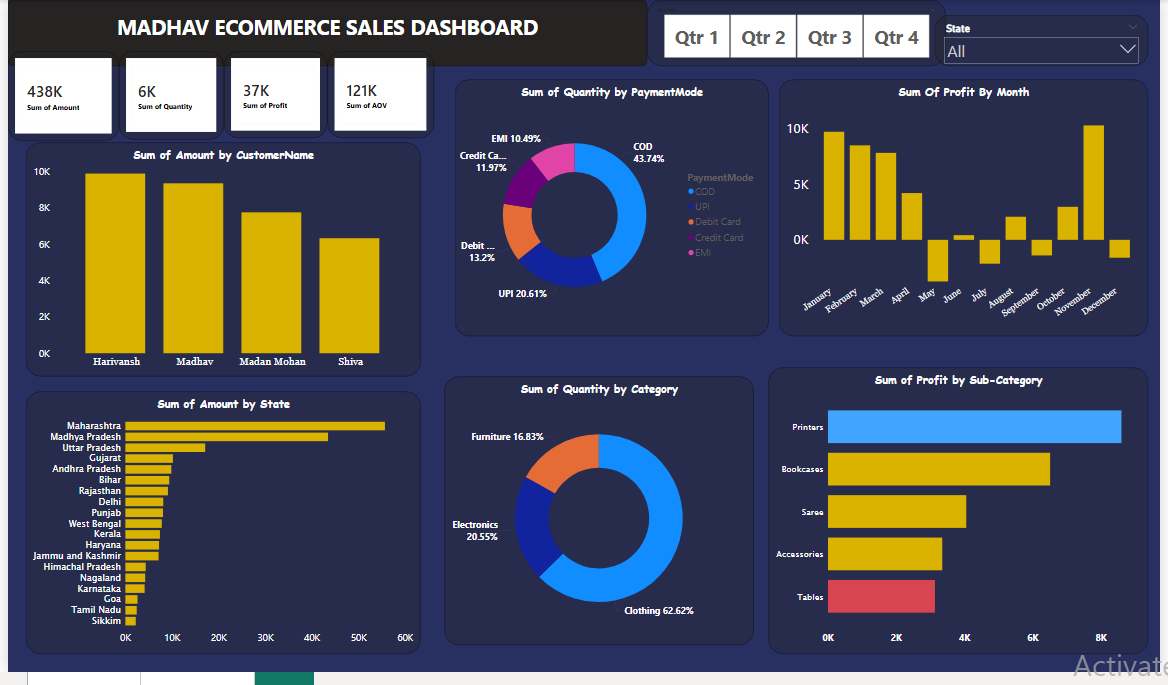

The page's visual inventory and layout, read from the dashboard file:
{"tool":"powerbi","page":{"name":"Page 1","canvas":[2400,1400],"ordinal":0},"visuals":[{"type":"textbox","box":[0,0,1331.2,137.5],"z":0},{"type":"columnChart","title":"Sum Of Profit By Month","fields":{"Y":["Sum(Details.Profit)"],"Category":["Orders.Order Date.Variation.Date Hierarchy.Month"]},"box":[1606.2,165.6,768.8,534.4],"z":1000},{"type":"barChart","fields":{"Category":["Details.Sub-Category"],"Y":["Sum(Details.Profit)"]},"box":[1584.4,765.6,790.6,596.9],"z":2000},{"type":"donutChart","fields":{"Category":["Details.Category"],"Y":["Sum(Details.Quantity)"]},"box":[909.4,784.4,643.8,559.4],"z":3000},{"type":"donutChart","fields":{"Y":["Sum(Details.Quantity)"],"Category":["Details.PaymentMode"]},"box":[931.2,165.6,653.1,534.4],"z":4000},{"type":"cardVisual","fields":{"Data":["Sum(Details.Amount)"]},"box":[0,106.2,231.2,187.5],"z":5000},{"type":"cardVisual","fields":{"Data":["Sum(Details.Quantity)"]},"box":[231.2,106.2,218.8,184.4],"z":6000},{"type":"cardVisual","fields":{"Data":["Sum(Details.Profit)"]},"box":[450,106.2,215.6,181.2],"z":7000},{"type":"cardVisual","fields":{"Data":["Sum(Details.AOV)"]},"box":[665.6,106.2,221.9,181.2],"z":8000},{"type":"barChart","fields":{"Category":["Orders.State"],"Y":["Sum(Details.Amount)"]},"box":[37.5,815.6,821.9,546.9],"z":9000},{"type":"columnChart","fields":{"Category":["Orders.CustomerName"],"Y":["Sum(Details.Amount)"]},"box":[37.5,296.9,821.9,487.5],"z":10000},{"type":"slicer","fields":{"Values":["Orders.Order Date.Variation.Date Hierarchy.Quarter"]},"box":[1331.2,0,621.9,137.5],"z":11000},{"type":"slicer","fields":{"Values":["Orders.State"]},"box":[1931.2,31.2,443.8,106.2],"z":12000}]}

Visuals, with their boxes in screenshot pixels (x1, y1, x2, y2), scaled from the page's 2400x1400 canvas onto the 1168x685 screenshot:
textbox: box=[0, 0, 648, 67]
"Sum Of Profit By Month" columnChart: box=[782, 81, 1156, 342]
barChart - Details.Sub-Category x Sum(Details.Profit): box=[771, 375, 1156, 667]
donutChart - Details.Category x Sum(Details.Quantity): box=[443, 384, 756, 658]
donutChart - Sum(Details.Quantity) x Details.PaymentMode: box=[453, 81, 771, 342]
cardVisual - Sum(Details.Amount): box=[0, 52, 113, 144]
cardVisual - Sum(Details.Quantity): box=[113, 52, 219, 142]
cardVisual - Sum(Details.Profit): box=[219, 52, 324, 141]
cardVisual - Sum(Details.AOV): box=[324, 52, 432, 141]
barChart - Orders.State x Sum(Details.Amount): box=[18, 399, 418, 667]
columnChart - Orders.CustomerName x Sum(Details.Amount): box=[18, 145, 418, 384]
slicer - Orders.Order Date.Variation.Date Hierarchy.Quarter: box=[648, 0, 951, 67]
slicer - Orders.State: box=[940, 15, 1156, 67]
